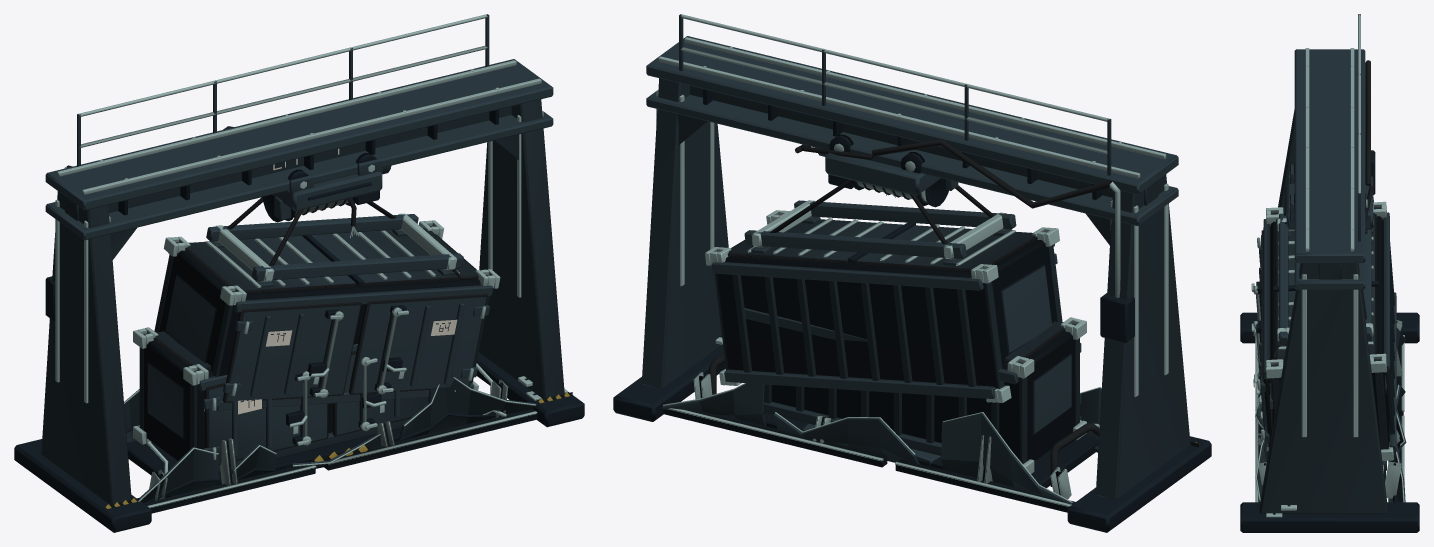
File: cargo.glb
The picture shows the model from 3 angles, left to right: view 1: azimuth 30°, elevation 25°; view 2: azimuth 150°, elevation 25°; view 3: azimuth 270°, elevation 25°; orthographic projection. The views are drawn at different scales.
Visible parts, largest first — view 1: freight-suspension-gantry--e9-body, freight-suspension-gantry--e9-trim, loading-wedged-pod--e9-body, freight-suspension-gantry--e9-dark, loading-wedged-pod--e9-dark, loading-wedged-pod--e9-trim, freight-suspension-gantry--p11-rubber, freight-suspension-gantry--p11-tint, loading-wedged-pod--p11-rubber; view 2: freight-suspension-gantry--e9-body, freight-suspension-gantry--e9-dark, freight-suspension-gantry--e9-trim, loading-wedged-pod--e9-body, loading-wedged-pod--e9-dark, loading-wedged-pod--e9-trim, freight-suspension-gantry--p11-rubber, loading-wedged-pod--p11-rubber; view 3: freight-suspension-gantry--e9-body, freight-suspension-gantry--e9-dark, freight-suspension-gantry--e9-trim, loading-wedged-pod--e9-trim, freight-suspension-gantry--p11-rubber, loading-wedged-pod--e9-body, loading-wedged-pod--e9-dark.
Boxes of the visible parts, x1,y1,x2,y2 form: freight-suspension-gantry--e9-body: (41,14,564,504); freight-suspension-gantry--e9-trim: (55,14,567,416); loading-wedged-pod--e9-body: (124,331,535,503); freight-suspension-gantry--e9-dark: (14,109,584,532); loading-wedged-pod--e9-dark: (126,340,536,513); loading-wedged-pod--e9-trim: (124,327,537,508); freight-suspension-gantry--p11-rubber: (66,126,487,402); freight-suspension-gantry--p11-tint: (105,148,572,509); loading-wedged-pod--p11-rubber: (153,337,411,464); freight-suspension-gantry--e9-body: (642,14,1190,499); freight-suspension-gantry--e9-dark: (613,89,1211,532); freight-suspension-gantry--e9-trim: (656,14,1168,403); loading-wedged-pod--e9-body: (662,308,1101,504); loading-wedged-pod--e9-dark: (663,331,1098,512); loading-wedged-pod--e9-trim: (663,317,1101,506); freight-suspension-gantry--p11-rubber: (727,139,1111,271); loading-wedged-pod--p11-rubber: (708,328,1099,486); freight-suspension-gantry--e9-body: (1259,14,1396,513); freight-suspension-gantry--e9-dark: (1240,150,1419,532); freight-suspension-gantry--e9-trim: (1251,14,1393,517); loading-wedged-pod--e9-trim: (1255,320,1404,502); freight-suspension-gantry--p11-rubber: (1263,60,1376,448); loading-wedged-pod--e9-body: (1256,327,1406,502); loading-wedged-pod--e9-dark: (1258,321,1403,502).
Bounding box in the file's own units: 7.65 × 5.63 × 2.8.
